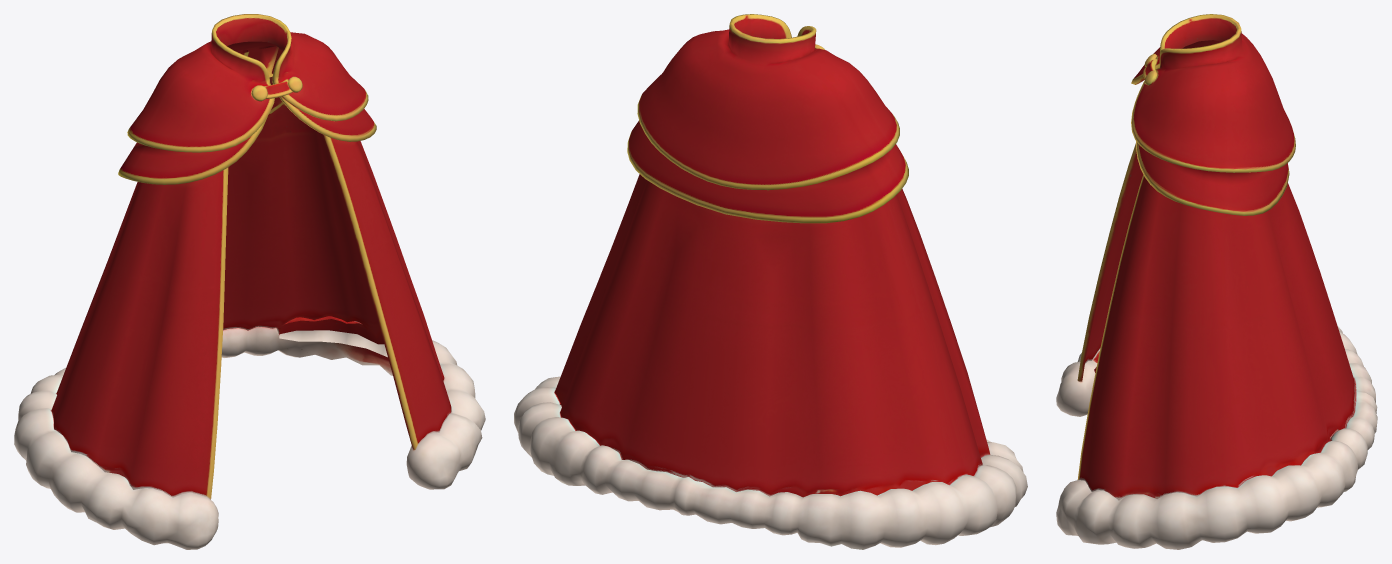
Rendered from erpin-cape.fbx.
3 renders of one model, left to right at view 1: azimuth 30°, elevation 25°; view 2: azimuth 150°, elevation 25°; view 3: azimuth 270°, elevation 25°, orthographic. The views are drawn at different scales.
Parts seen in each view (by area): view 1: tripo_node_db8e496d-0d2c-4731-b1f2-0dd522e9f5a8; view 2: tripo_node_db8e496d-0d2c-4731-b1f2-0dd522e9f5a8; view 3: tripo_node_db8e496d-0d2c-4731-b1f2-0dd522e9f5a8.
Part boxes in pixels (<box>): tripo_node_db8e496d-0d2c-4731-b1f2-0dd522e9f5a8: <box>14,14,485,549</box>; tripo_node_db8e496d-0d2c-4731-b1f2-0dd522e9f5a8: <box>514,14,1027,549</box>; tripo_node_db8e496d-0d2c-4731-b1f2-0dd522e9f5a8: <box>1056,14,1377,549</box>.
Bounding box in the file's own units: 0.9956 × 0.9985 × 0.6548.
Materials: 1 (1 with a texture image).
